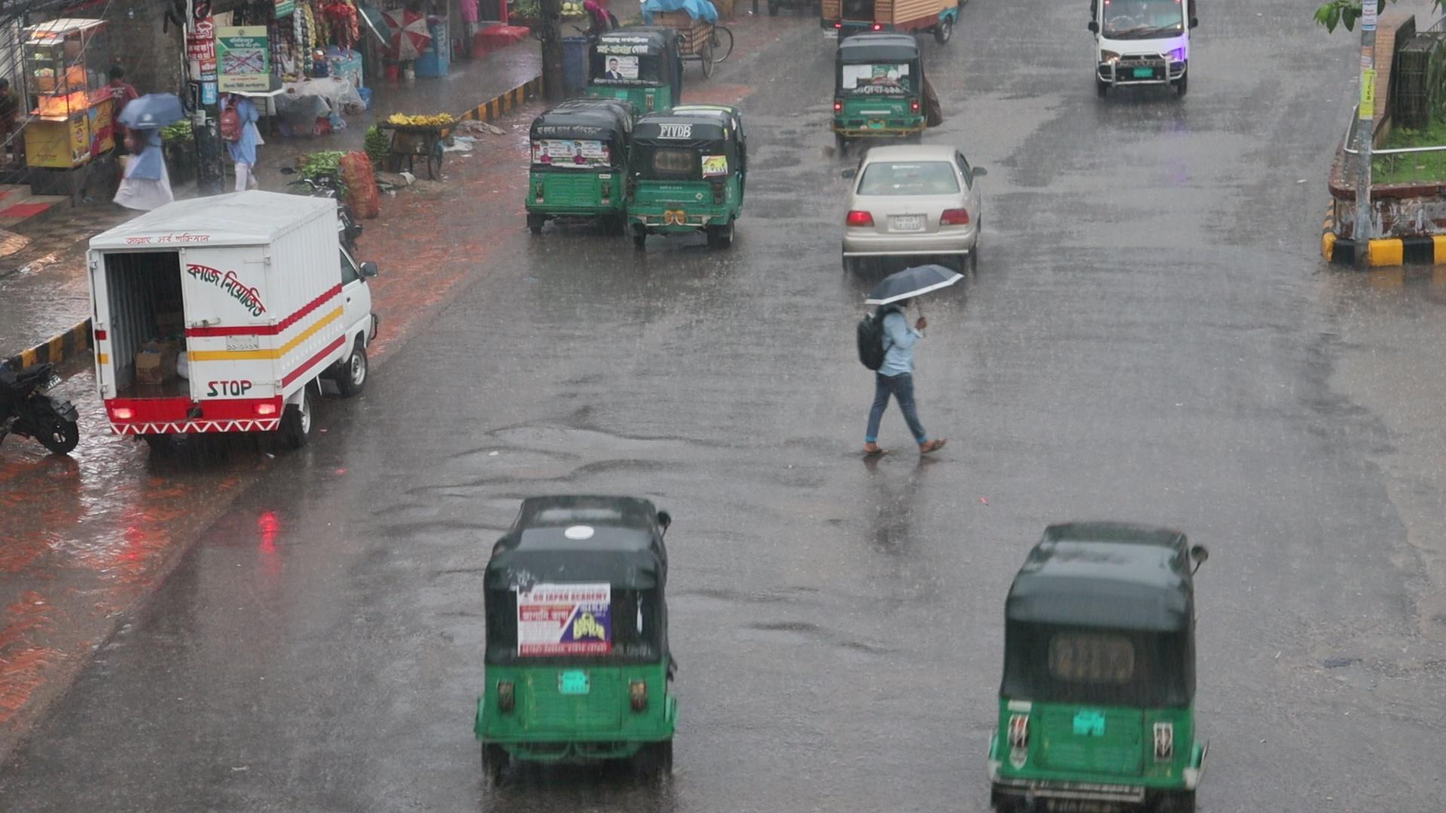Car: (839, 128, 996, 279)
